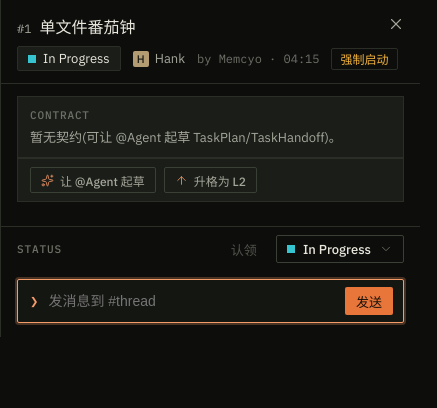
it: ThreadPanel T7 拒绝就地提示(HANDOFF_INCOMPLETE) › 置 in_review 命中 HANDOFF_INCOMPLETE → 就地显示 missing 字段(不是 toast)
The width and height of the screenshot is (437, 408).
Note: 状态下拉:In Progress → 展开 → 点 In Review。
Click the button "In Progress" at (340, 249), box [276,235,404,263]
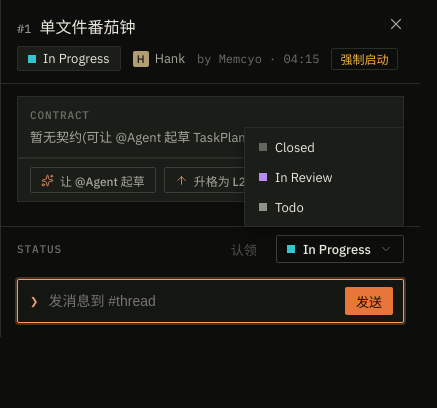
Click the text "In Review" at (296, 177), box [259,168,332,186]
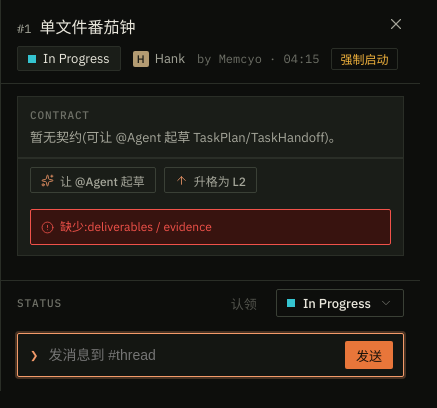
Result: the text "缺少:deliverables / evidence" is shown at [30,209,391,245]
